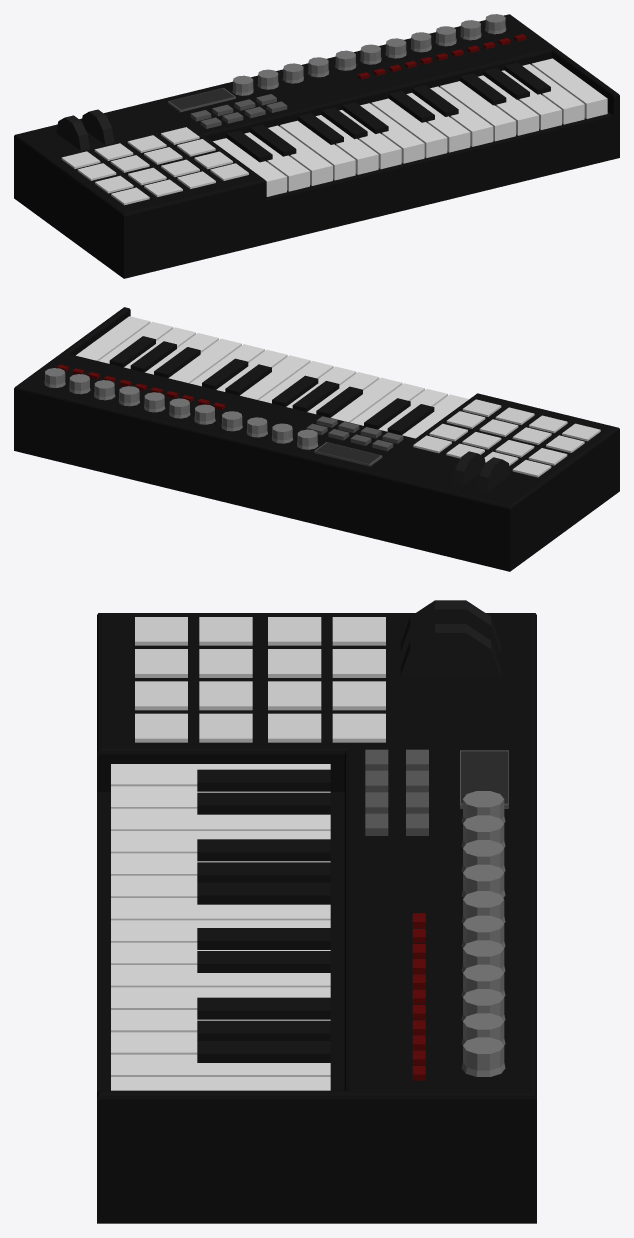
The model's file is Midi Keyboard20.fbx.
3 views of the same model, one above another, from view 1: azimuth 30°, elevation 25°; view 2: azimuth 150°, elevation 25°; view 3: azimuth 270°, elevation 25° (orthographic). The views are drawn at different scales.
Visible parts, largest first — view 1: 49keysmidi.021; view 2: 49keysmidi.021; view 3: 49keysmidi.021.
Boxes of the visible parts, x1,y1,x2,y2 form: 49keysmidi.021: (14,14,619,278); 49keysmidi.021: (14,307,619,571); 49keysmidi.021: (97,600,536,1223).
Bounding box in the file's own units: 50.32 × 8.32 × 19.33.
